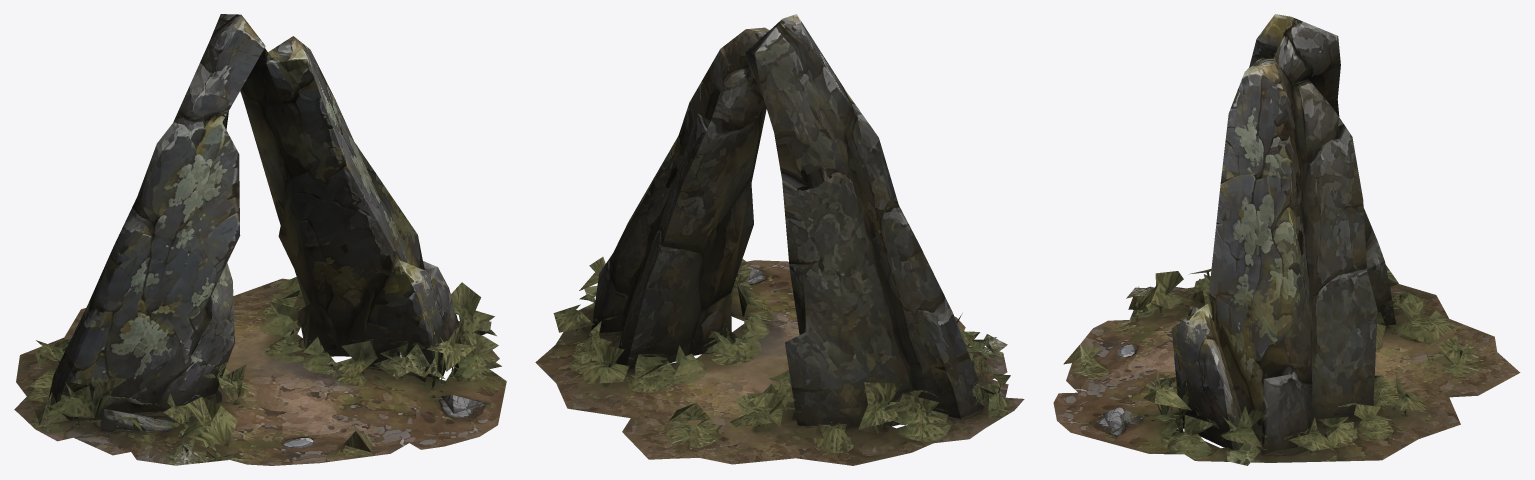
Rendered from act1_extras_v1_leaning_stones.glb.
3 views of the same model, side by side, from view 1: azimuth 30°, elevation 25°; view 2: azimuth 150°, elevation 25°; view 3: azimuth 270°, elevation 25° (orthographic). The views are drawn at different scales.
Parts seen in each view (by area): view 1: A17_1_leaning_stones; view 2: A17_1_leaning_stones; view 3: A17_1_leaning_stones.
Boxes of the visible parts, box(x1,y1,x2,y2) form: A17_1_leaning_stones: box(14, 14, 506, 465); A17_1_leaning_stones: box(535, 14, 1024, 465); A17_1_leaning_stones: box(1053, 14, 1520, 465).
Size of the model in its own units: 0.9951 by 0.771 by 0.9321.
1 material, 1 textured.
